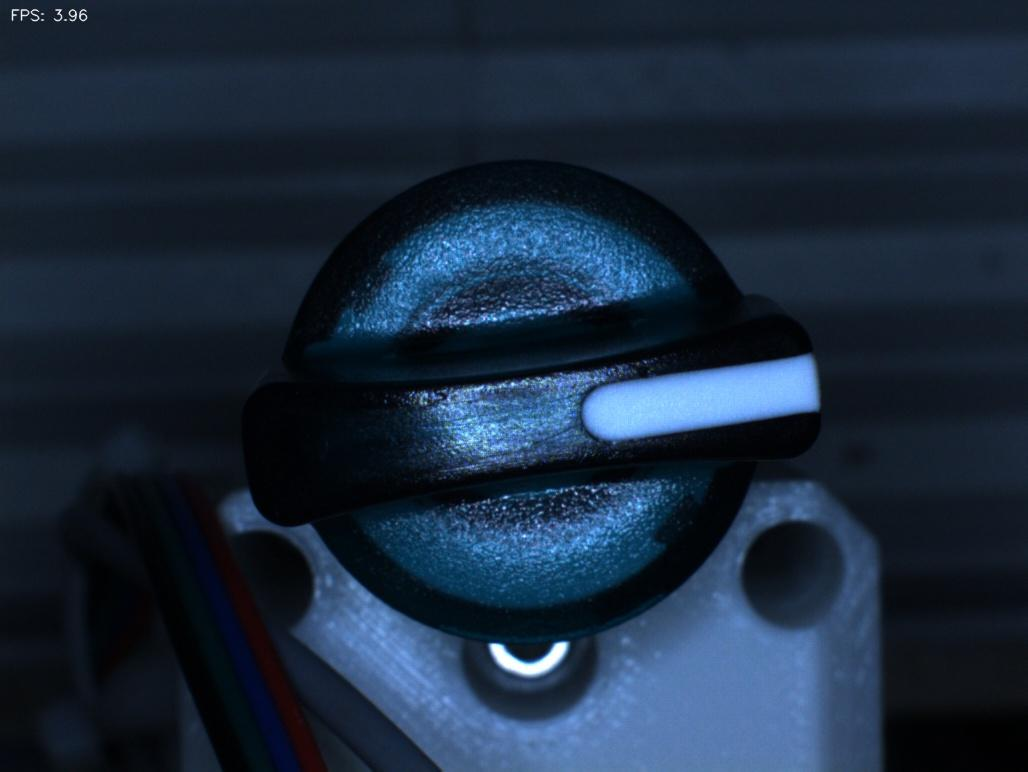Choc: (615, 340, 684, 411)
